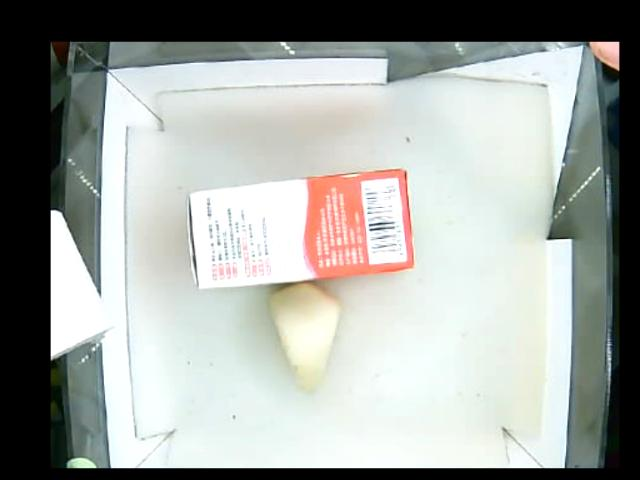Medicine: (189, 168, 416, 291)
Mooli: (271, 284, 343, 398)
